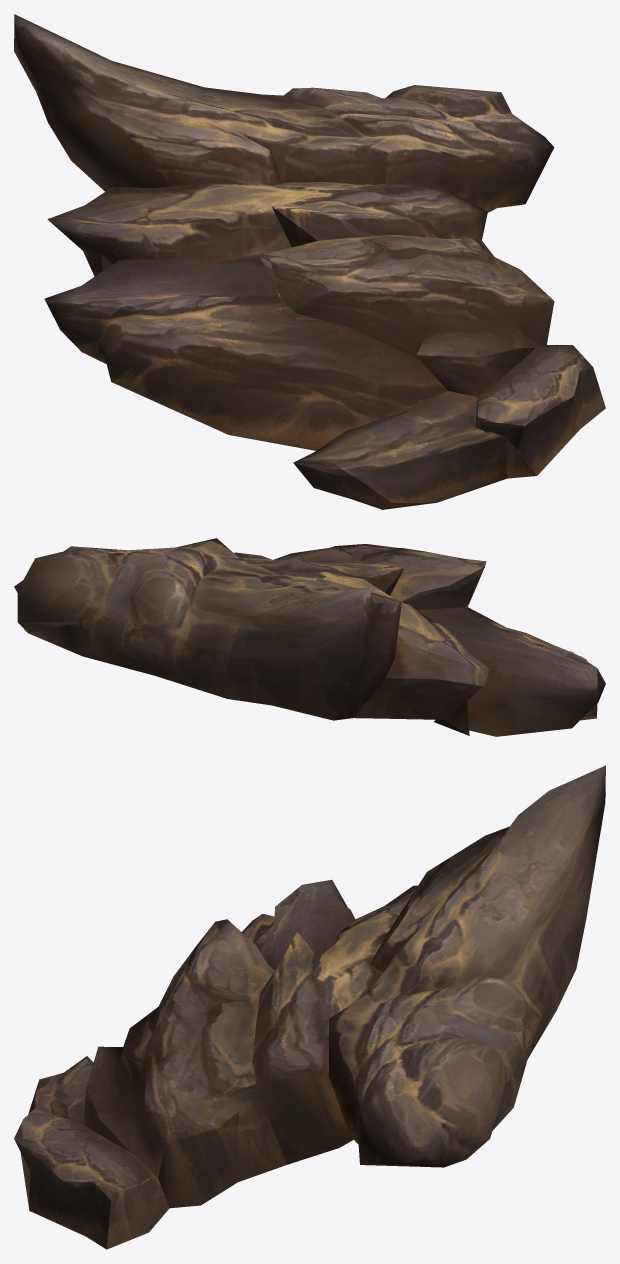
Rendered from xsm_shitou_10.FBX.
The picture shows the model from 3 angles, top to bottom: view 1: azimuth 30°, elevation 25°; view 2: azimuth 150°, elevation 25°; view 3: azimuth 270°, elevation 25°; orthographic projection. The views are drawn at different scales.
Parts seen in each view (by area): view 1: xsm_shitou_10; view 2: xsm_shitou_10; view 3: xsm_shitou_10.
Boxes of the visible parts, box(x1,y1,x2,y2) form: xsm_shitou_10: box(14, 14, 605, 509); xsm_shitou_10: box(14, 538, 605, 736); xsm_shitou_10: box(14, 765, 605, 1249).
Size of the model in its own units: 124 by 69.14 by 113.
